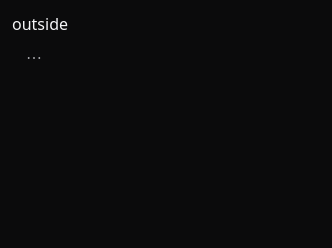
ActionMenu › runs the chosen item and closes
Click the button named "More options": (34, 58) [12,36,56,80]
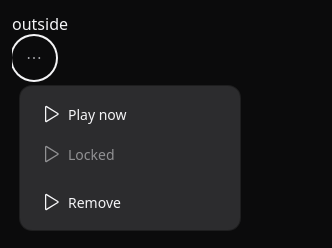
Click the menu item "Play now": (130, 114) [28,94,232,134]
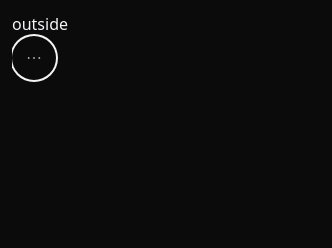
Result: the menu is gone
